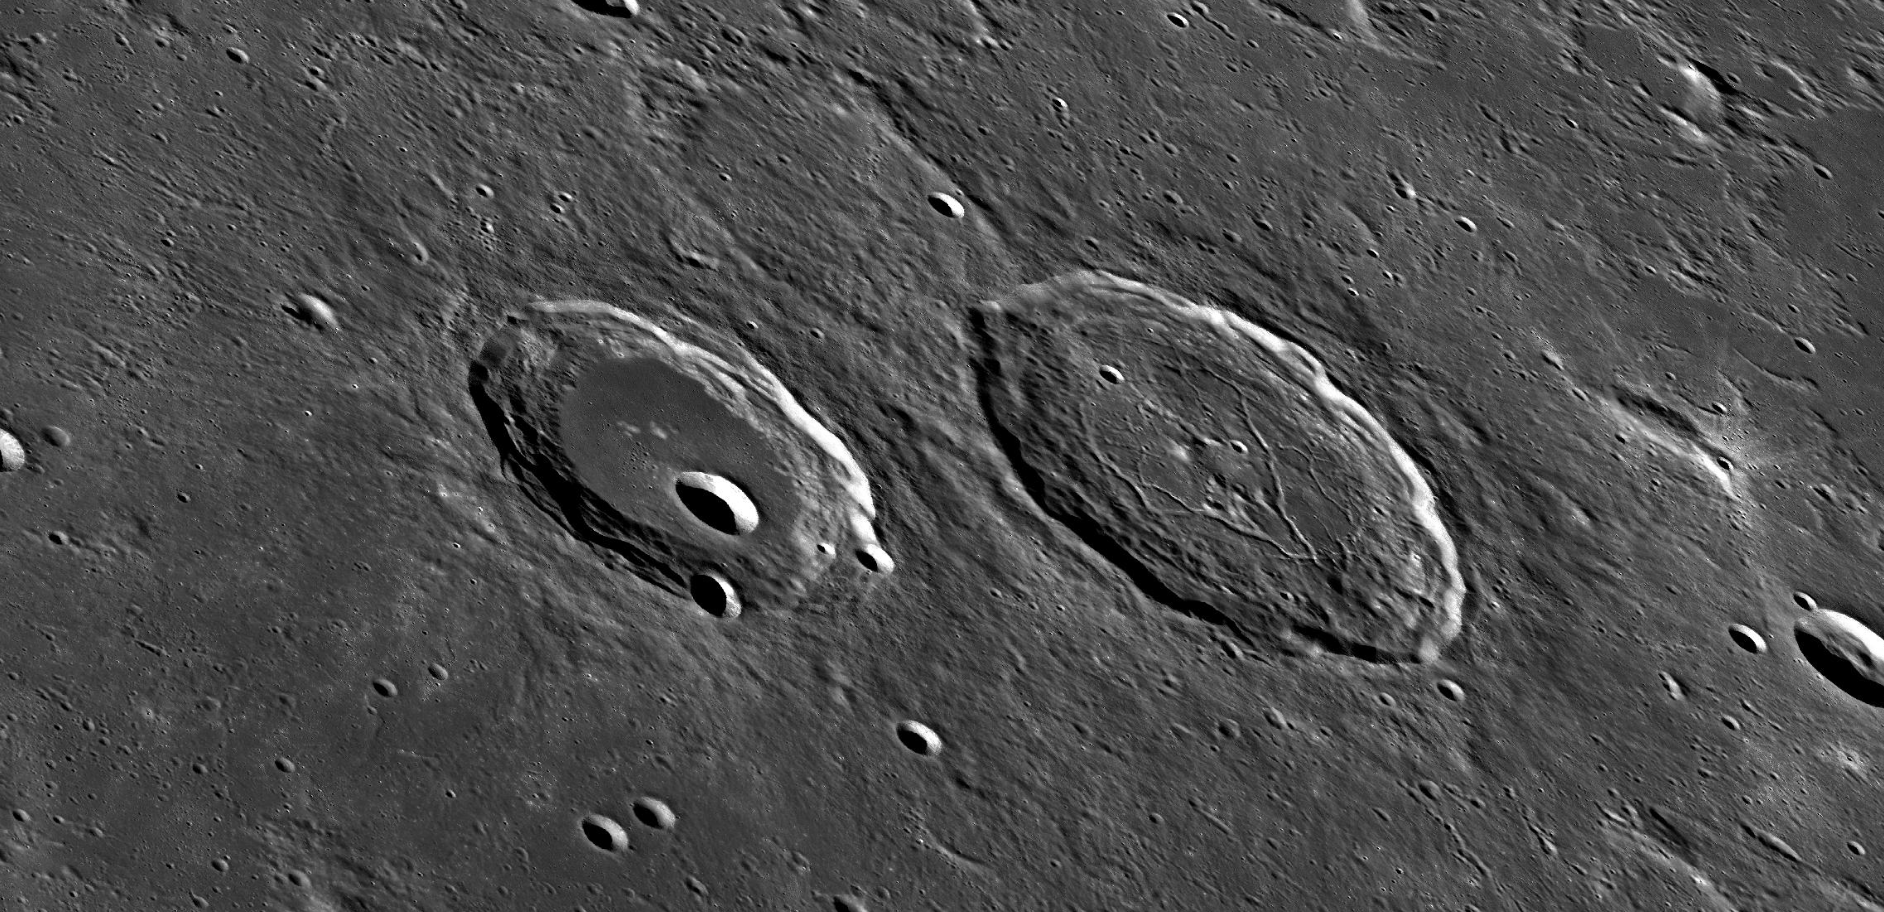crater: (916, 228, 1512, 678), (403, 284, 902, 673), (823, 676, 1023, 824), (1675, 403, 1779, 521)
